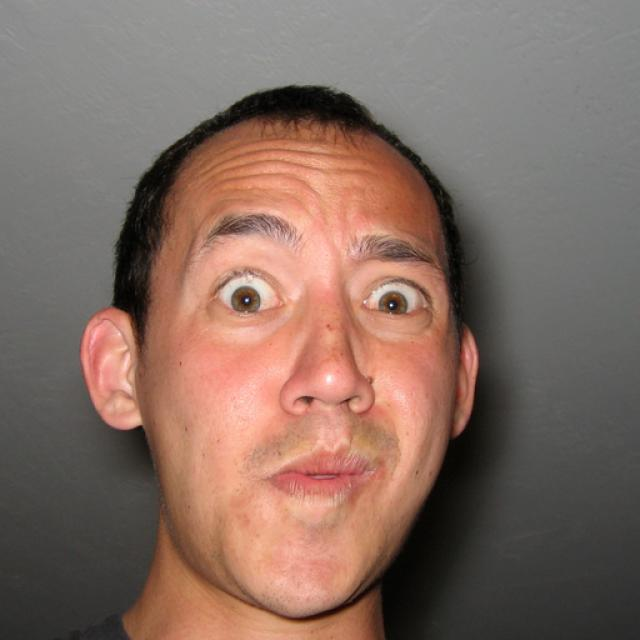surprise: (144, 136, 458, 620)
